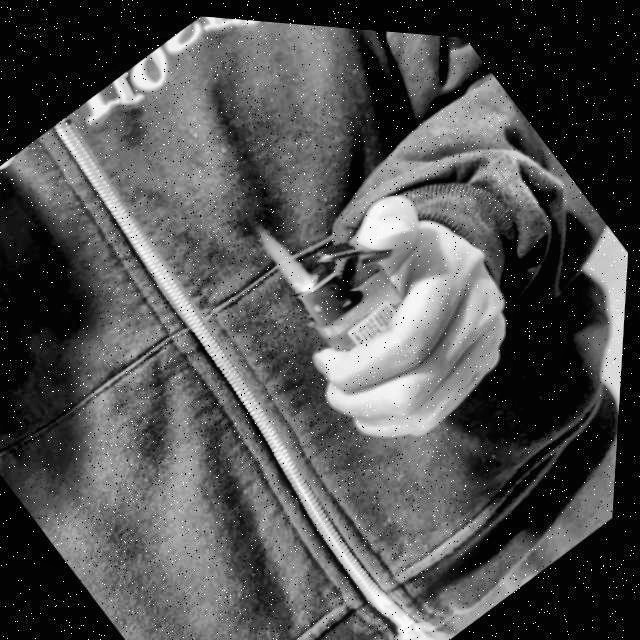Fire: (247, 208, 327, 295)
